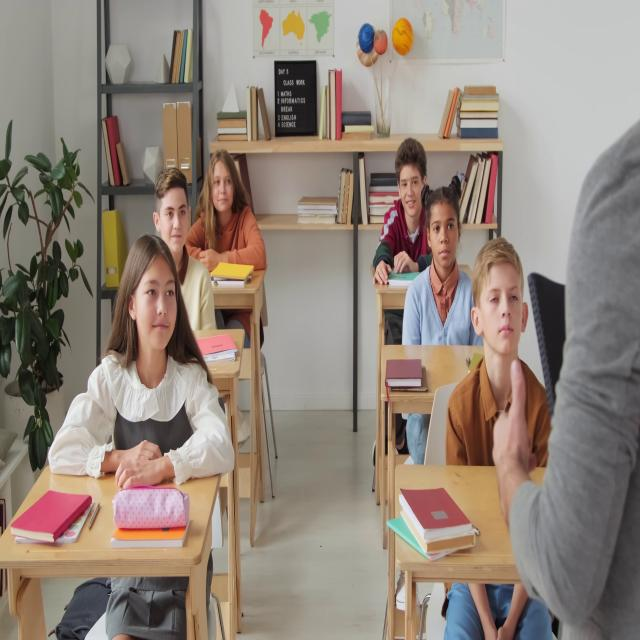listening: (49, 244, 242, 640), (443, 242, 549, 469), (185, 154, 264, 450), (402, 185, 474, 350), (154, 168, 219, 336), (369, 138, 428, 292)
